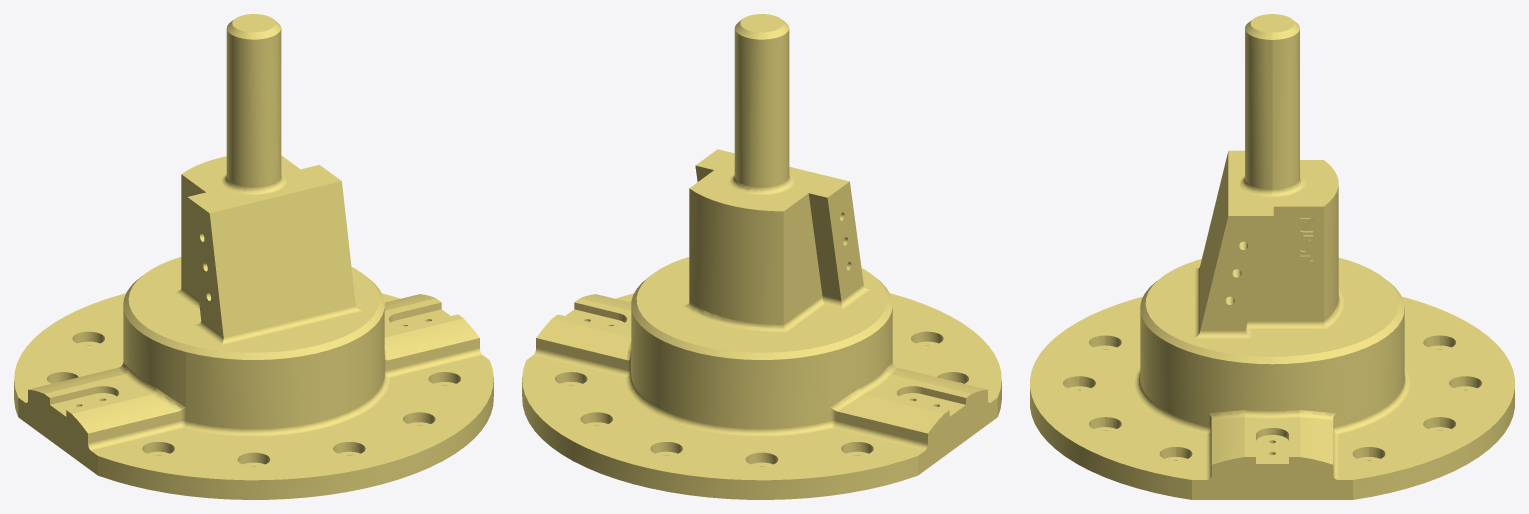
Rendered from nist-pmi.glb.
3 renders of one model, left to right at view 1: azimuth 30°, elevation 25°; view 2: azimuth 150°, elevation 25°; view 3: azimuth 270°, elevation 25°, orthographic.
Parts seen in each view (by area): view 1: Shape 1; view 2: Shape 1; view 3: Shape 1.
Part boxes in pixels (<box>): Shape 1: <box>14,14,493,499</box>; Shape 1: <box>522,14,1001,499</box>; Shape 1: <box>1030,14,1514,499</box>.
Bounding box in the file's own units: 527 × 483 × 558.
